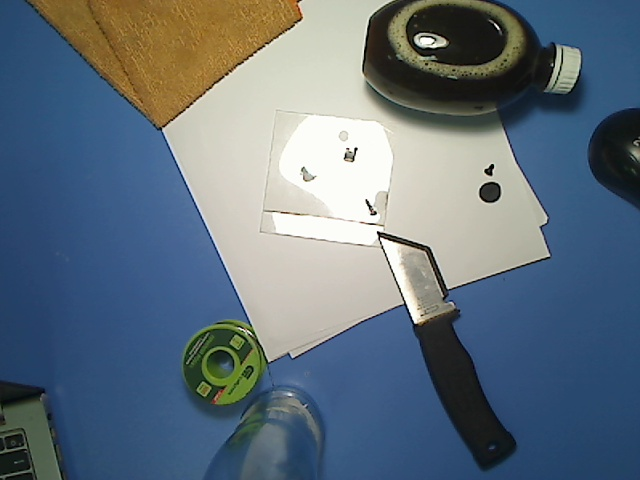plast_bottle: (362, 1, 586, 120)
